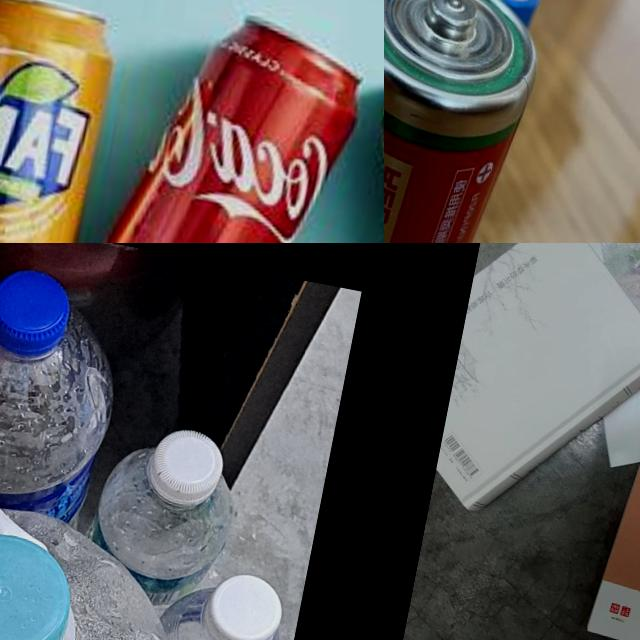bateria: (384, 0, 557, 243), (474, 0, 555, 32)
garrafa plástica: (0, 248, 141, 560), (67, 432, 260, 628), (0, 467, 211, 640), (115, 584, 295, 640)
lata: (74, 0, 378, 243), (0, 0, 122, 243)
papel: (408, 243, 640, 640)
tampa plástica: (0, 518, 93, 640), (142, 420, 232, 512), (0, 262, 75, 362), (194, 567, 289, 640)
